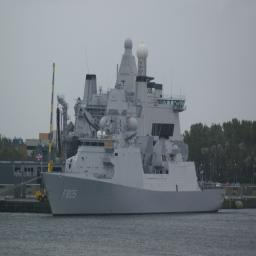Fragata: (36, 83, 230, 219)
